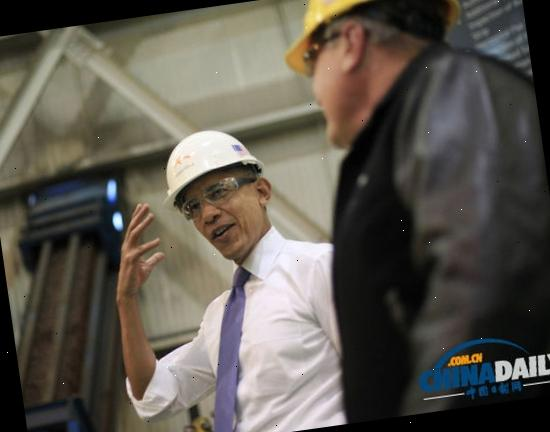helmet: (262, 0, 463, 73), (152, 119, 270, 206)
no_wear: (184, 234, 355, 432)
